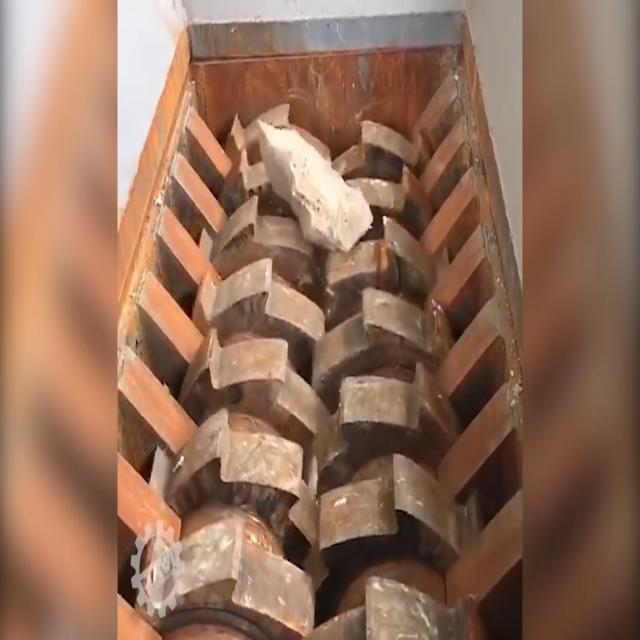Broyeur: (111, 0, 524, 640)
